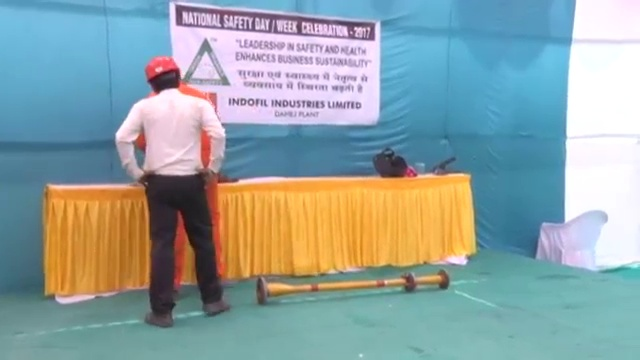helmet: (143, 55, 178, 81)
helmet_on: (145, 57, 179, 95)
person: (117, 53, 232, 321)
